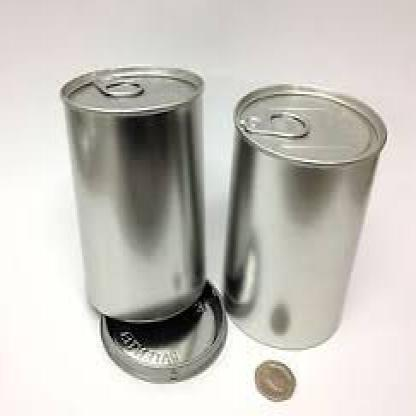METAL: (223, 84, 385, 348), (58, 66, 206, 322), (99, 280, 226, 382), (254, 358, 294, 400)
